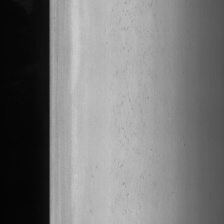silk_spot: (107, 0, 157, 215)
